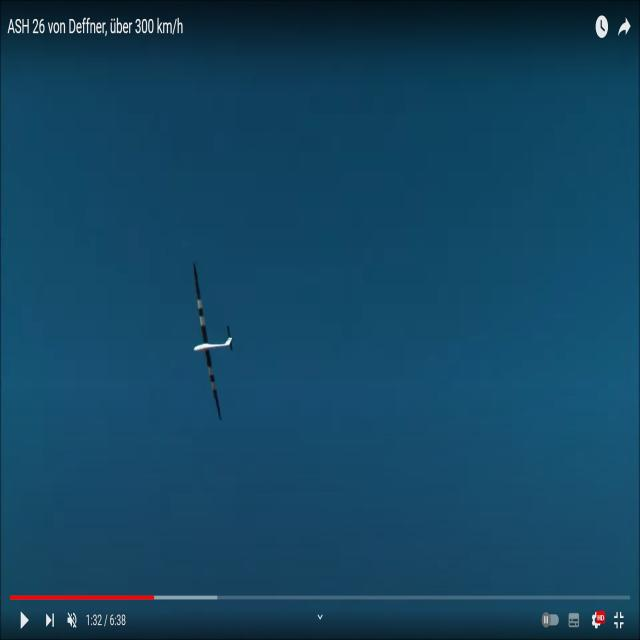iha: (193, 263, 235, 419)
